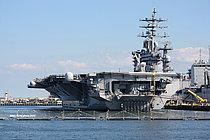MIL_Ship: (28, 8, 193, 109)
